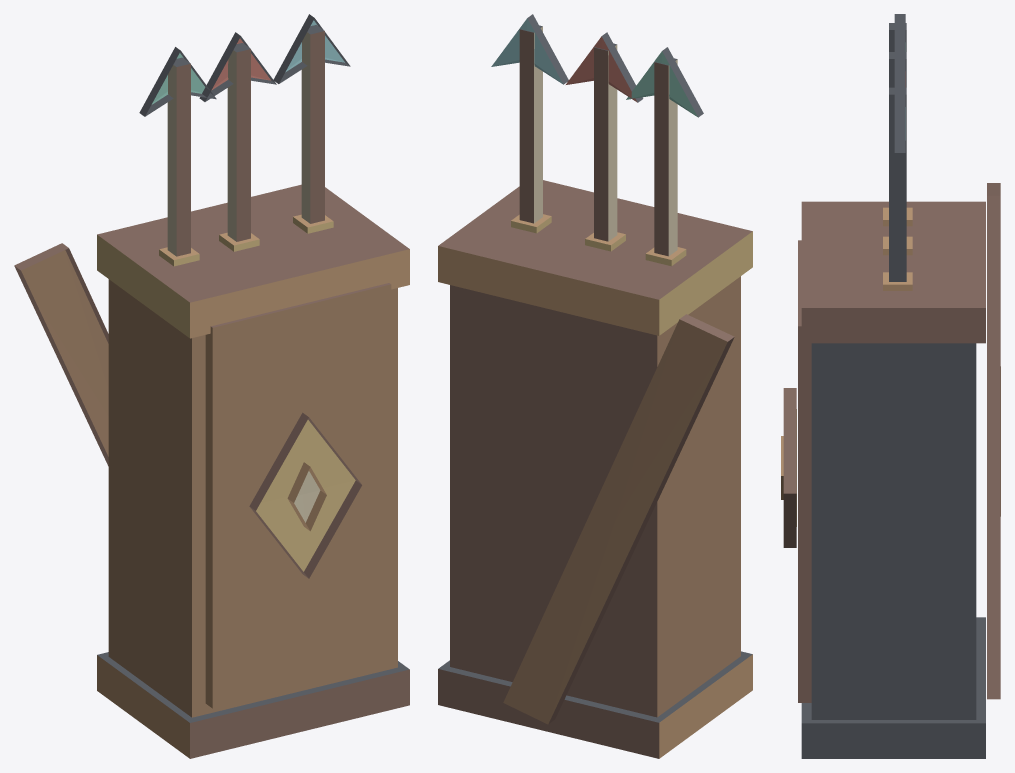
The model's file is brass_quiver.glb.
3 renders of one model, left to right at view 1: azimuth 30°, elevation 25°; view 2: azimuth 150°, elevation 25°; view 3: azimuth 270°, elevation 25°, orthographic.
Parts seen in each view (by area): view 1: body; view 2: body; view 3: body.
Part boxes in pixels (bbox=[...]): body: bbox=[14, 14, 409, 758]; body: bbox=[438, 14, 752, 758]; body: bbox=[781, 14, 1000, 758].
Size of the model in its own units: 8.6 by 18.5 by 5.61.
